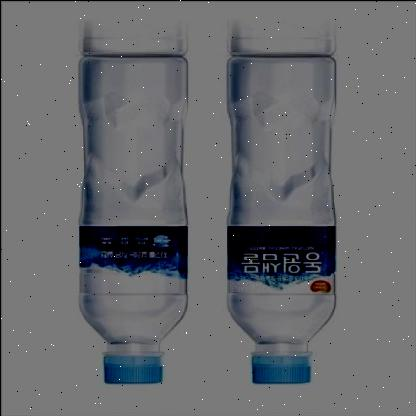Plastic Bottle: (226, 55, 335, 383), (78, 55, 186, 382)
